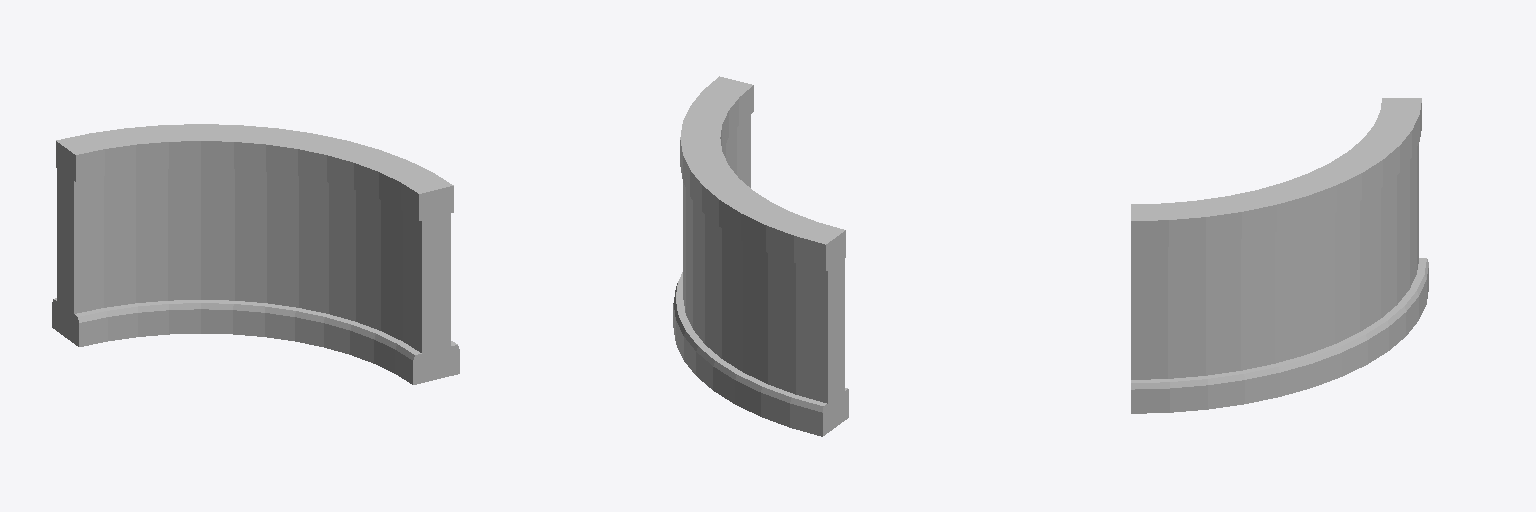
The model's file is brickWallCurve.obj.
3 views of the same model, side by side, from view 1: azimuth 30°, elevation 25°; view 2: azimuth 150°, elevation 25°; view 3: azimuth 270°, elevation 25° (orthographic).
Visible parts, largest first — view 1: brickWallCurve; view 2: brickWallCurve; view 3: brickWallCurve.
Boxes of the visible parts, x1,y1,x2,y2 form: brickWallCurve: [52, 124, 459, 384]; brickWallCurve: [673, 76, 848, 436]; brickWallCurve: [1131, 98, 1428, 413].
Size of the model in its own units: 1 by 0.7019 by 1.